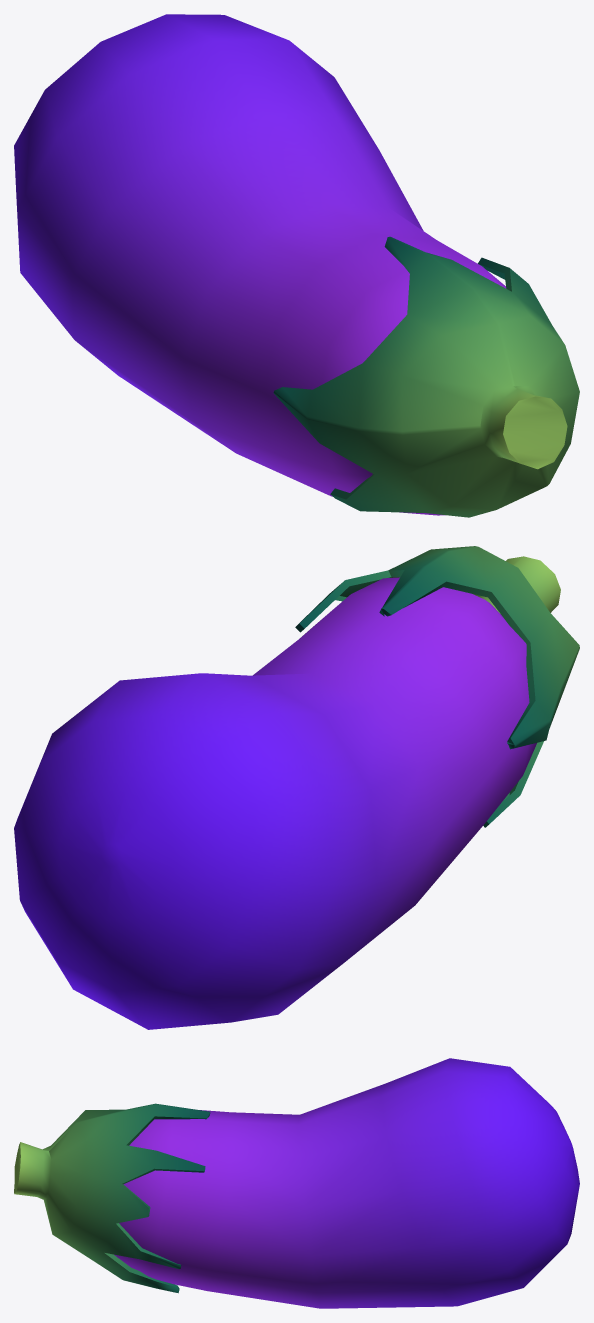
Rendered from Aubergine.fbx.
3 renders of one model, top to bottom at view 1: azimuth 30°, elevation 25°; view 2: azimuth 150°, elevation 25°; view 3: azimuth 270°, elevation 25°, orthographic. The views are drawn at different scales.
Visible parts, largest first — view 1: Aubergine; view 2: Aubergine; view 3: Aubergine.
Part boxes in pixels (left/top/right/bottom): Aubergine: left=14, top=14, right=579, bottom=517; Aubergine: left=14, top=546, right=579, bottom=1029; Aubergine: left=14, top=1058, right=579, bottom=1308.
Bounding box in the file's own units: 0.1924 × 0.2012 × 0.4498.
